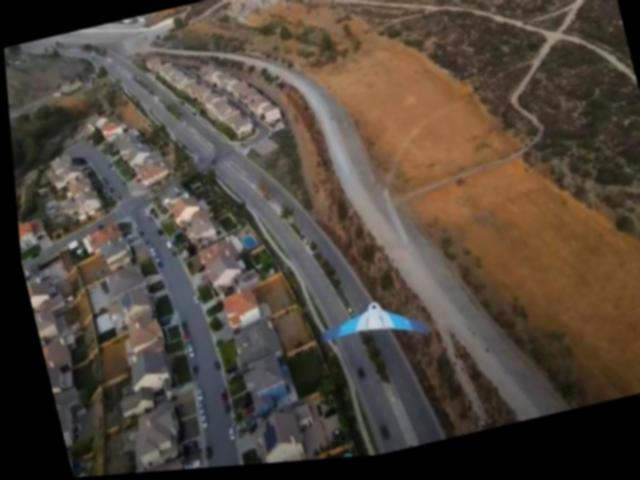iha: (311, 296, 422, 363)
